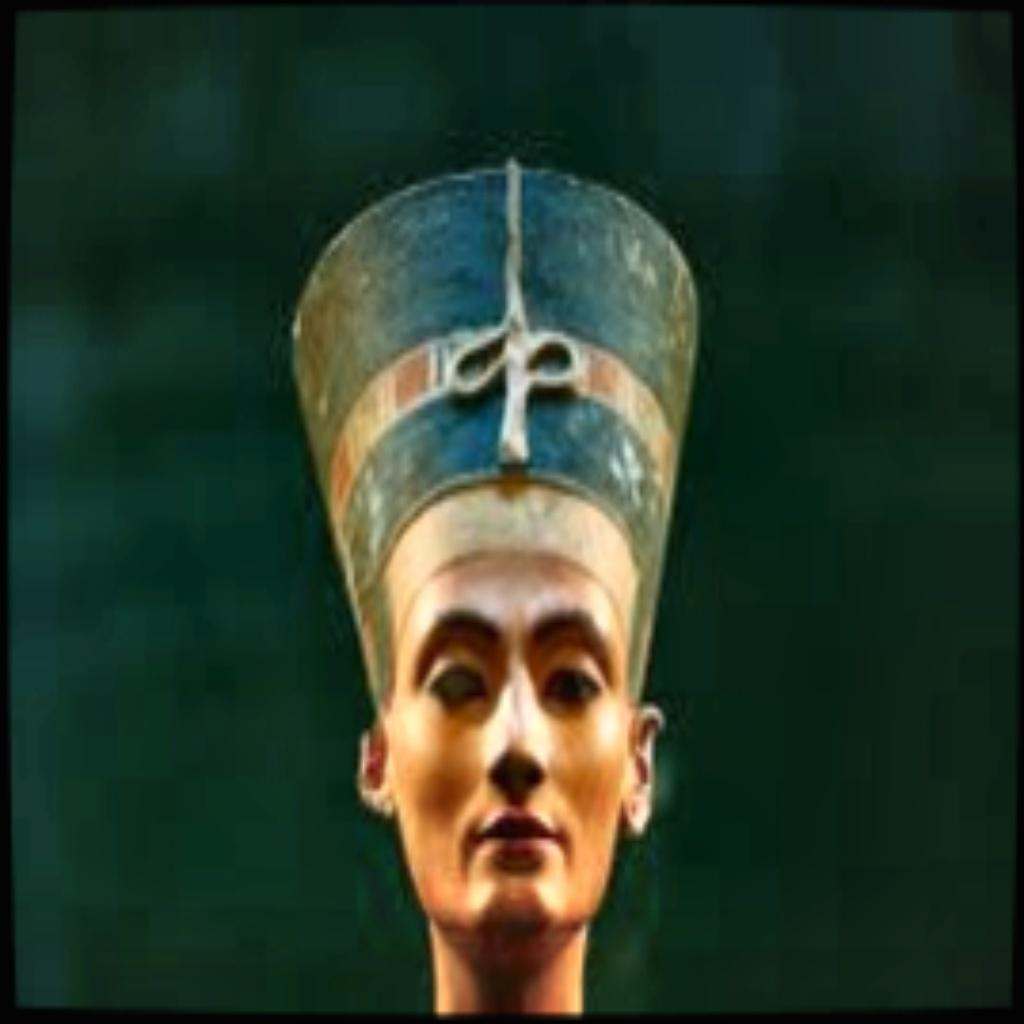Nefertiti: (294, 158, 700, 1008)
